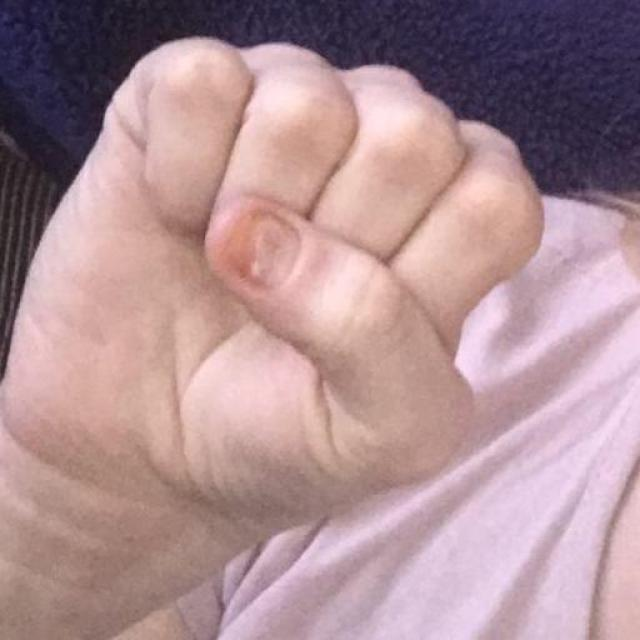hand: (1, 34, 548, 536)
